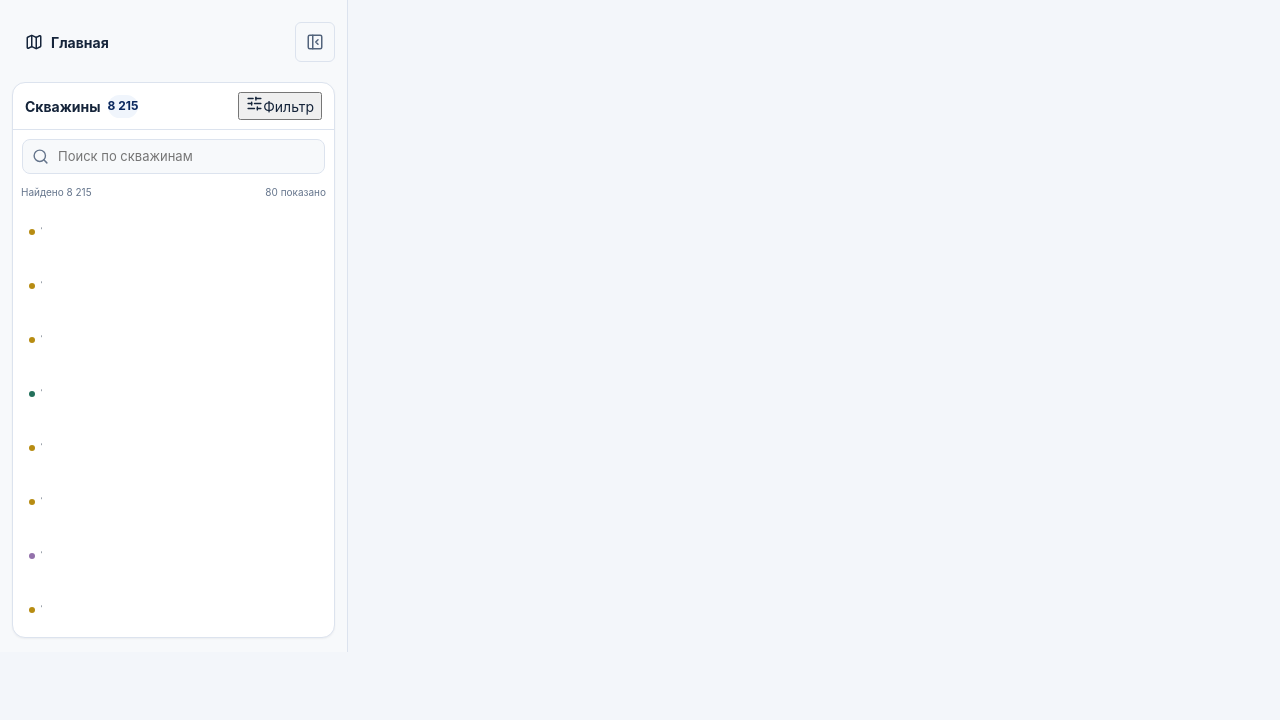
Scenario: BGD deposit navigation › opens a side filter panel, filters wells, and restores them with reset
Click the button "Фильтр": (280, 106) [238, 92, 322, 120]
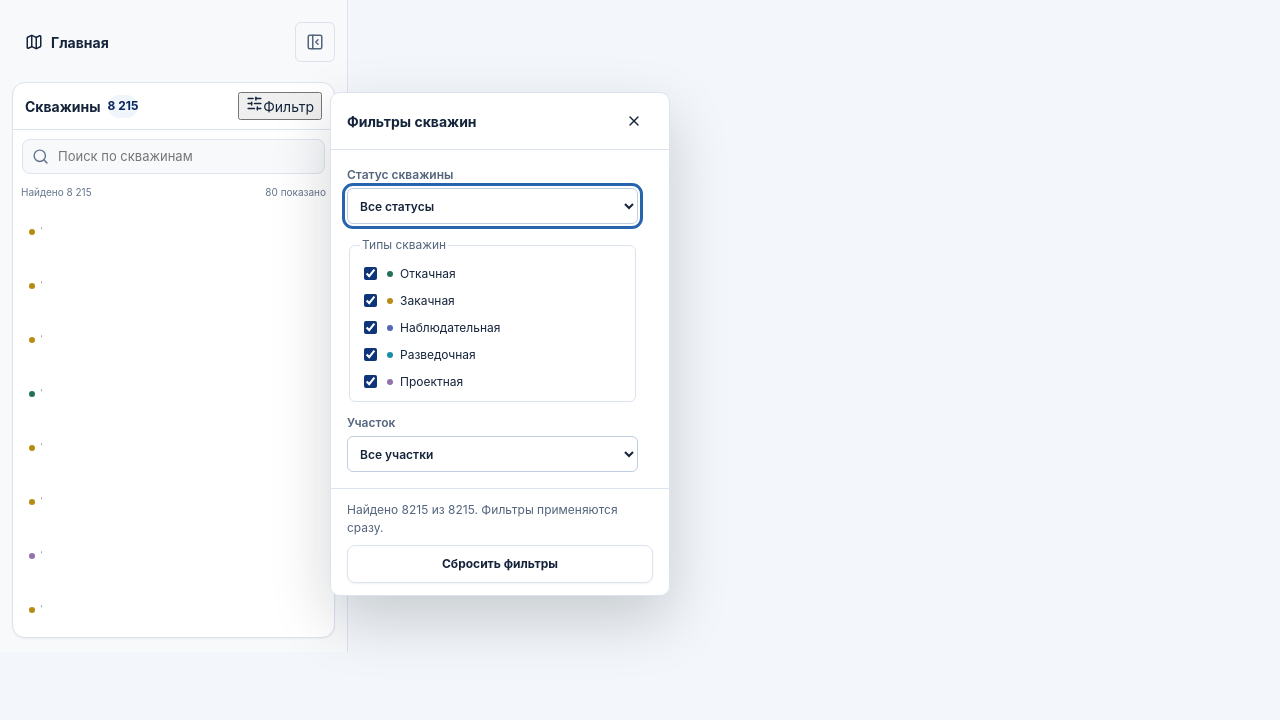
Select "Требует внимания" in the dropdown labelled "Статус скважины": (492, 206) [347, 188, 638, 224]
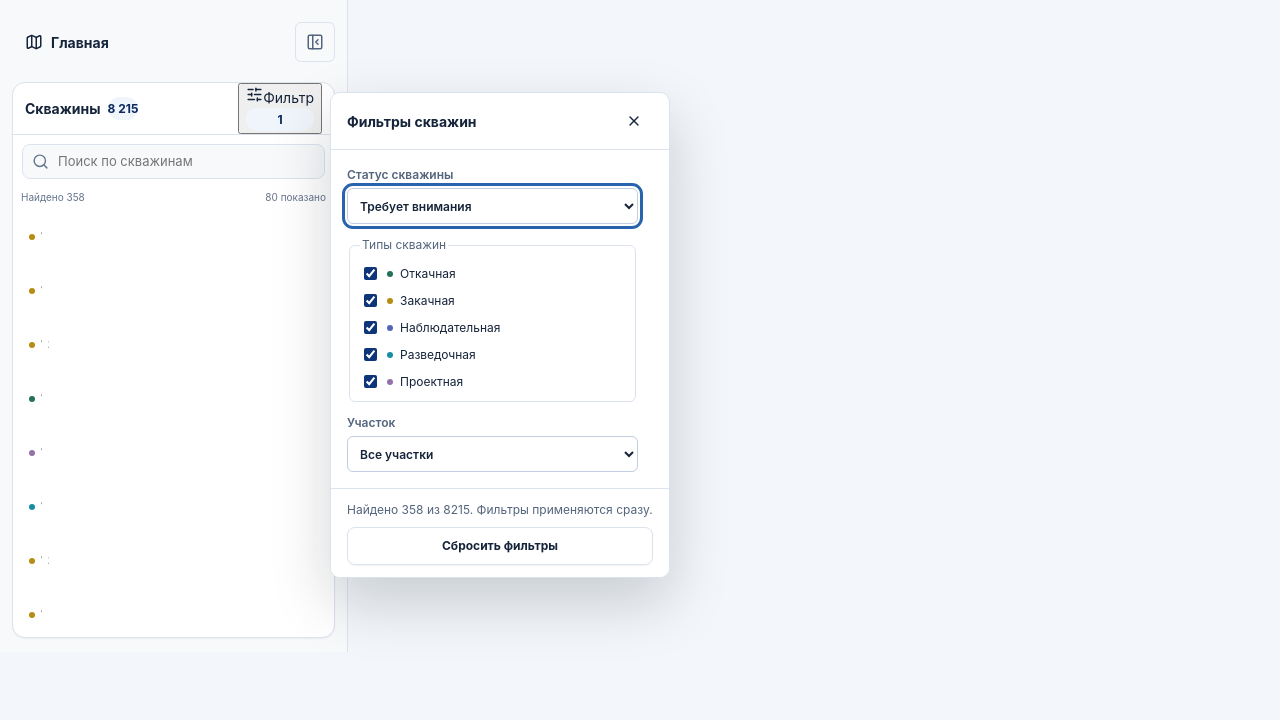
Click the button "Сбросить фильтры": (500, 546) [347, 527, 653, 565]
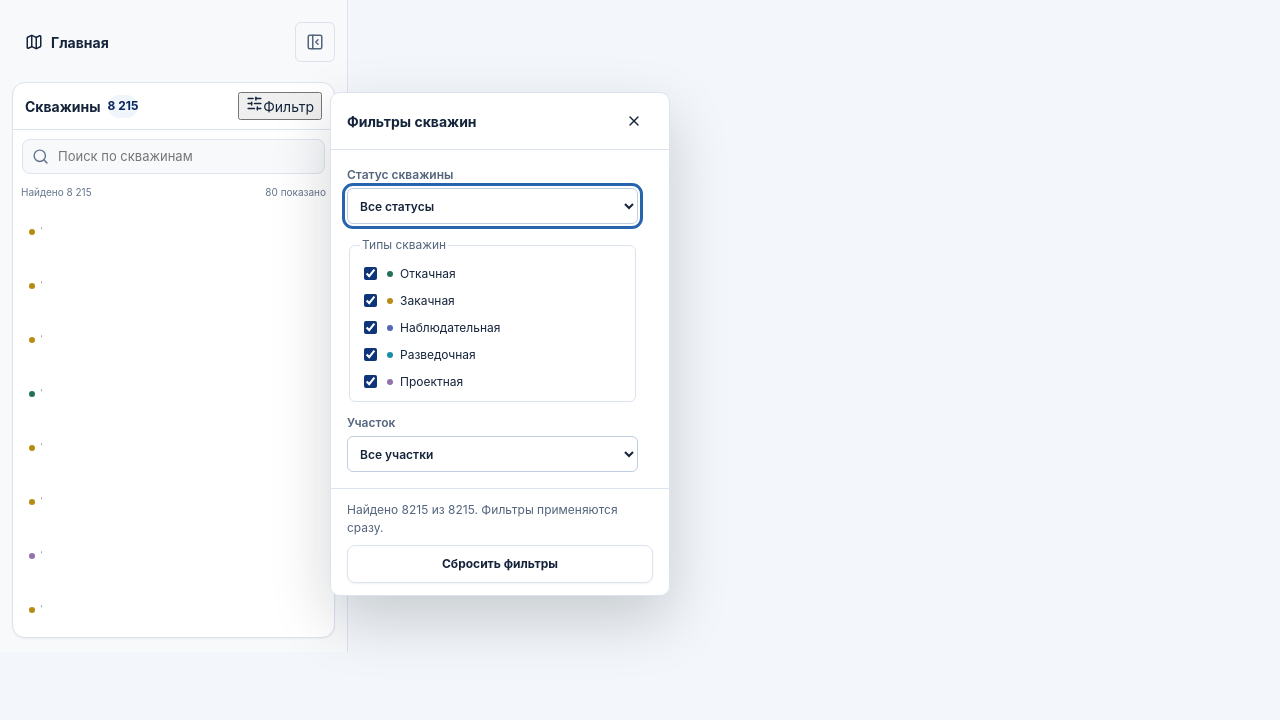
Press Escape
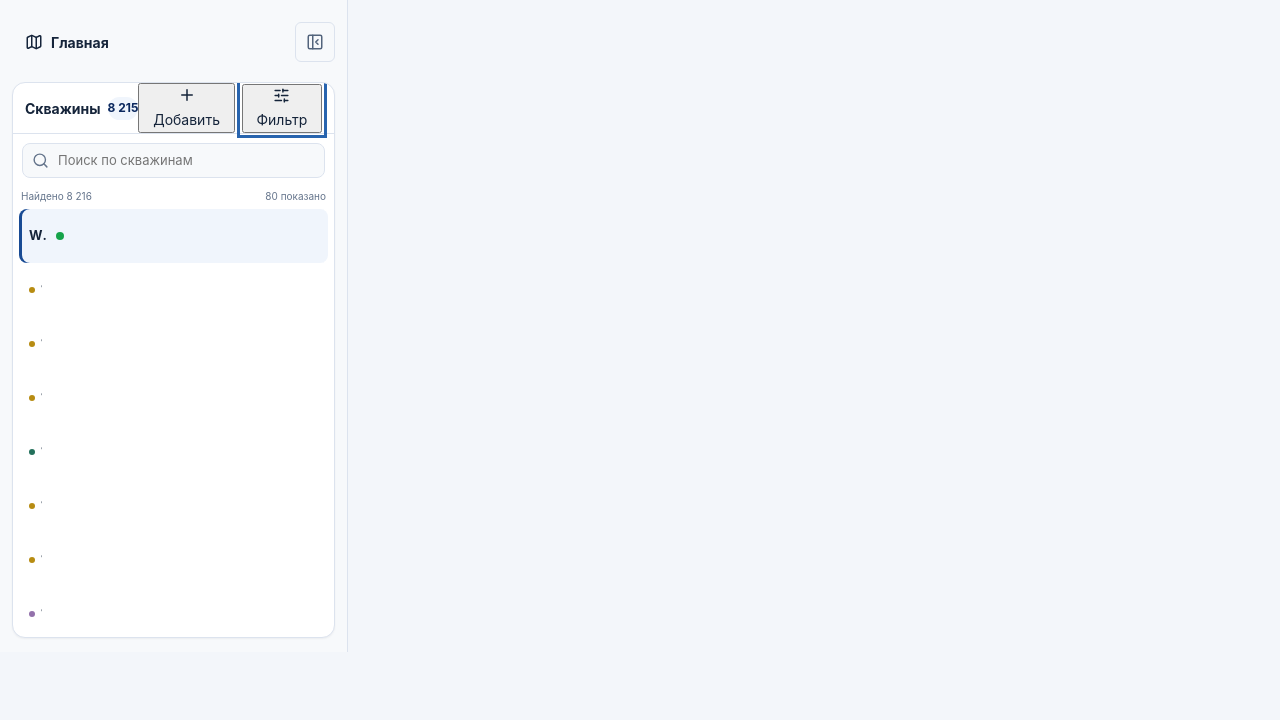
Expected: the dialog is gone
